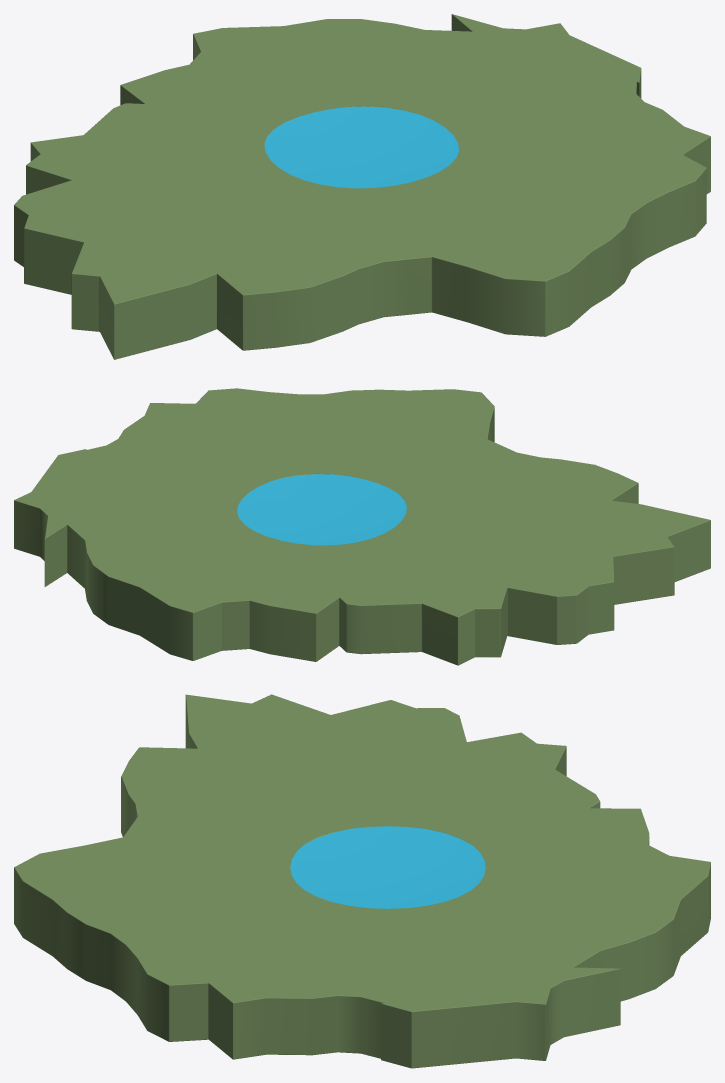
File: CenterPairLatest.fbx
3 renders of one model, top to bottom at view 1: azimuth 30°, elevation 25°; view 2: azimuth 150°, elevation 25°; view 3: azimuth 270°, elevation 25°, orthographic. The views are drawn at different scales.
Parts seen in each view (by area): view 1: Fate Isle Continent, Circle; view 2: Fate Isle Continent, Circle; view 3: Fate Isle Continent, Circle.
Part boxes in pixels (x1,y1,x2,y2): Fate Isle Continent: (14, 14, 710, 359); Circle: (264, 106, 459, 188); Fate Isle Continent: (14, 388, 710, 665); Circle: (237, 474, 406, 545); Fate Isle Continent: (14, 694, 710, 1068); Circle: (290, 826, 485, 908).
Size of the model in its own units: 48.19 by 4.03 by 44.7.
